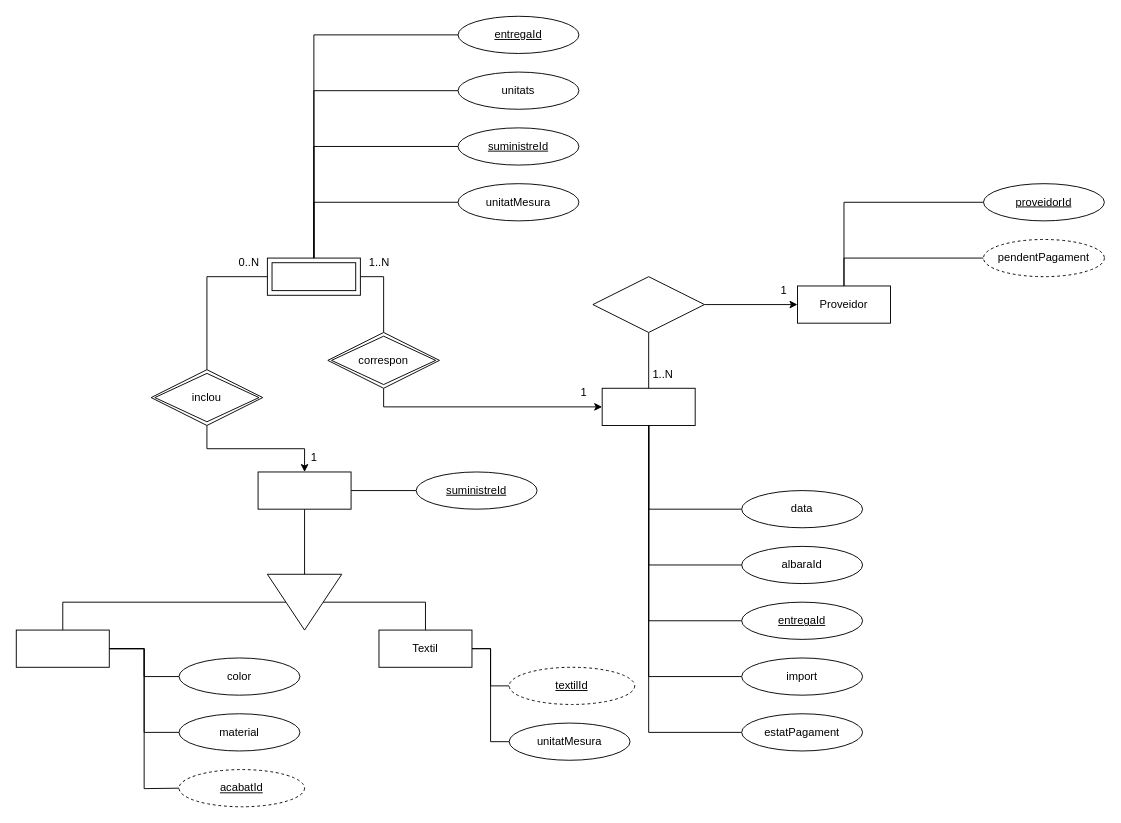
Some shapes in this 1121 by 823 pixel diagram are drawn without their labels. The centre of each missing label's shape, as x and y in pixels:
Acabat: point (62, 648)
Entrega: point (648, 406)
enviada: point (648, 304)
Lot: point (313, 276)
Suministre: point (304, 490)
ÉS: point (304, 601)
